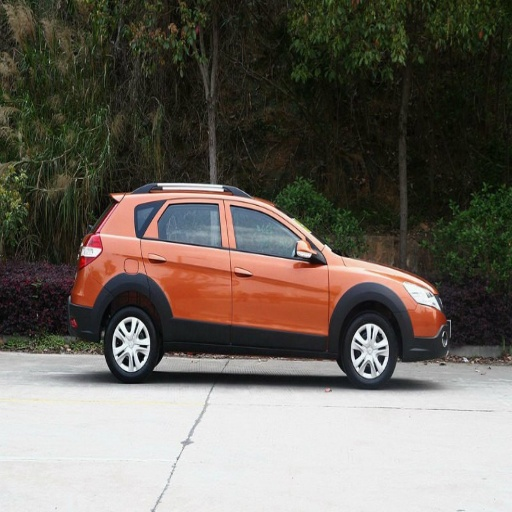back_right_door: (141, 195, 230, 342)
front_right_door: (227, 197, 329, 342)
